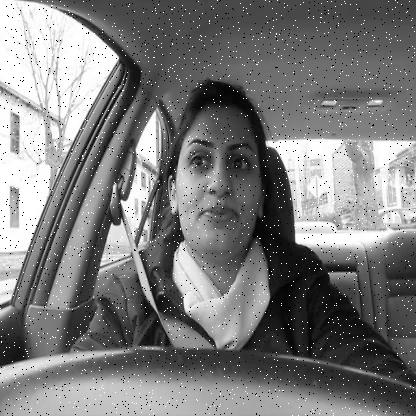seatbelt: (109, 69, 279, 344)
